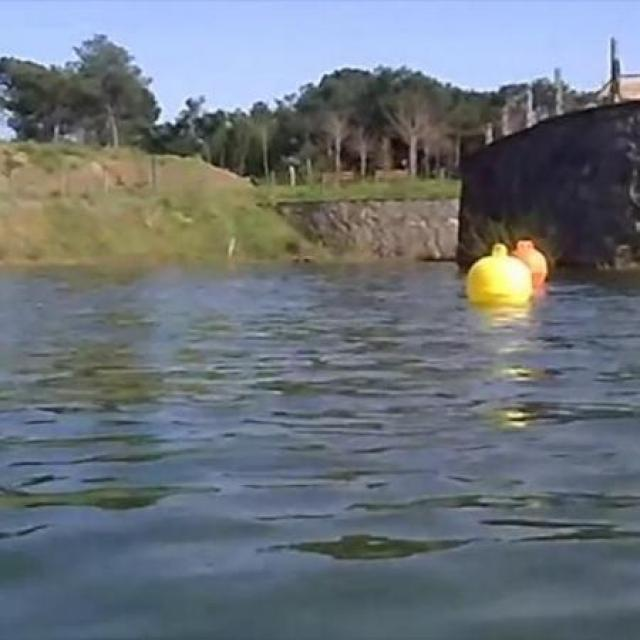buoy: (466, 246, 531, 306), (511, 240, 551, 294)
